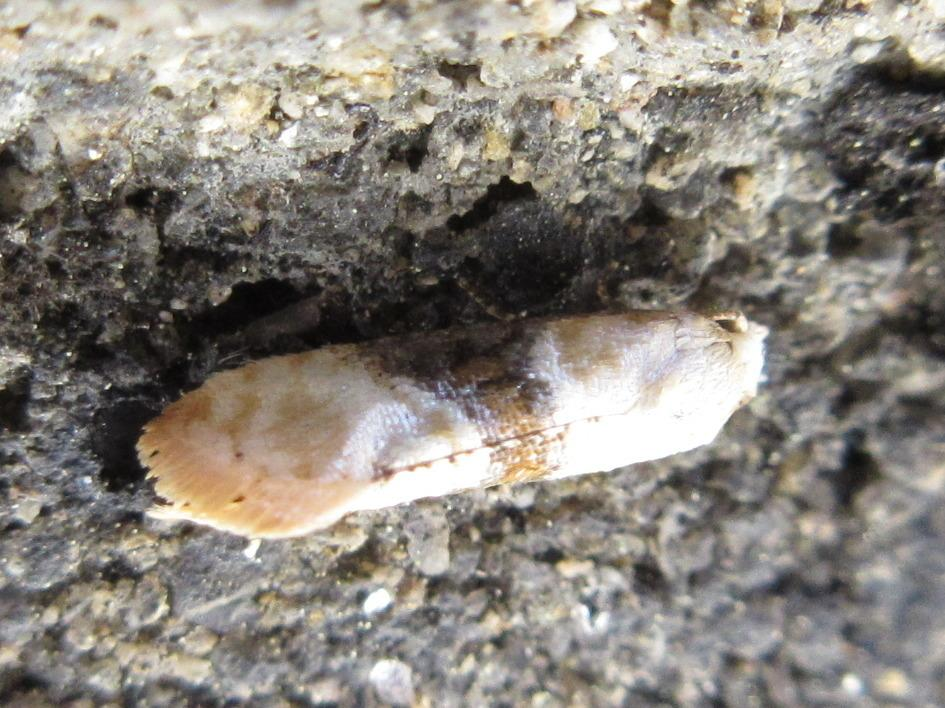Eupoecilia Ambiguella: (133, 305, 771, 543)
